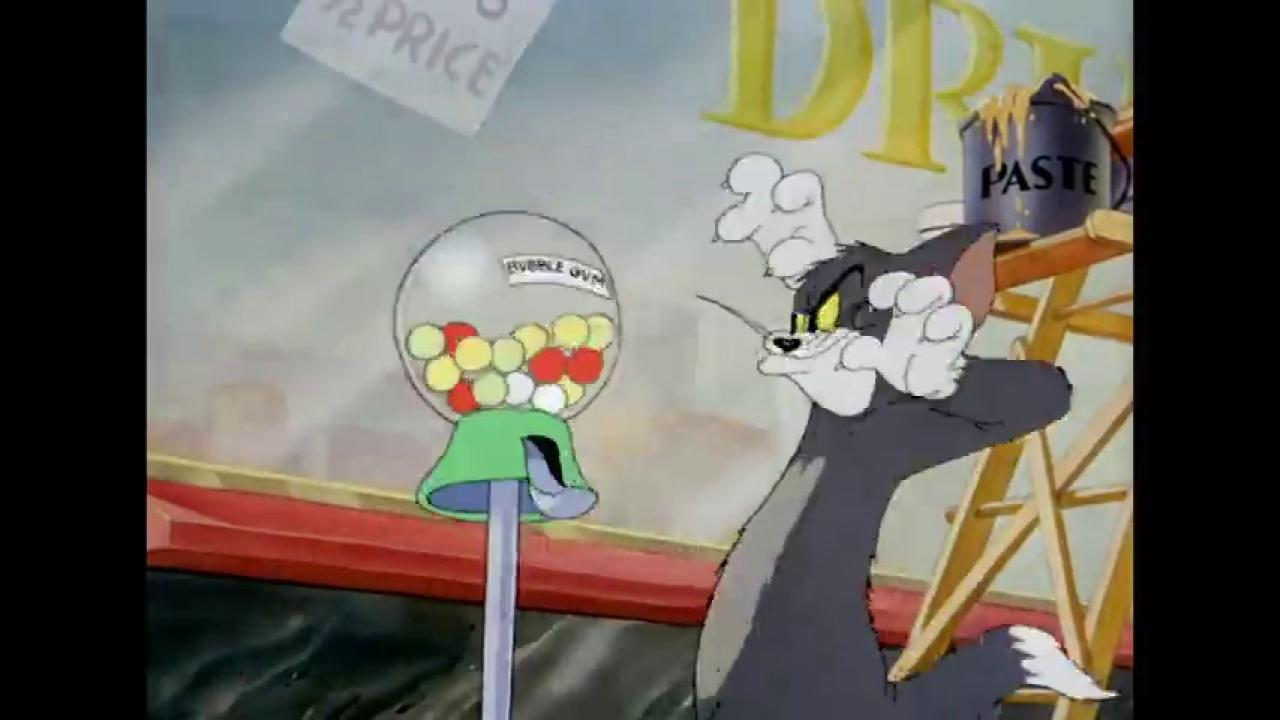Tom: (692, 151, 1123, 720)
